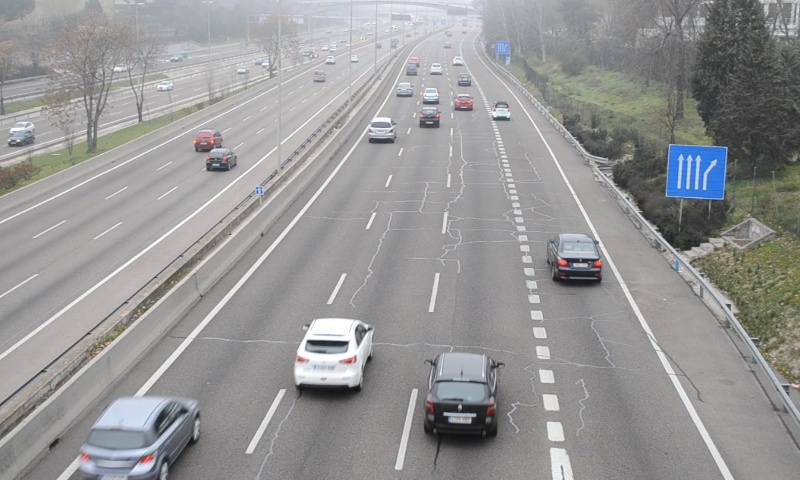car: (81, 397, 196, 480), (424, 351, 498, 440), (294, 318, 374, 390), (546, 232, 604, 285), (367, 117, 397, 143), (418, 106, 440, 128), (491, 100, 512, 121), (454, 94, 474, 112), (395, 82, 414, 98), (422, 87, 439, 104)
